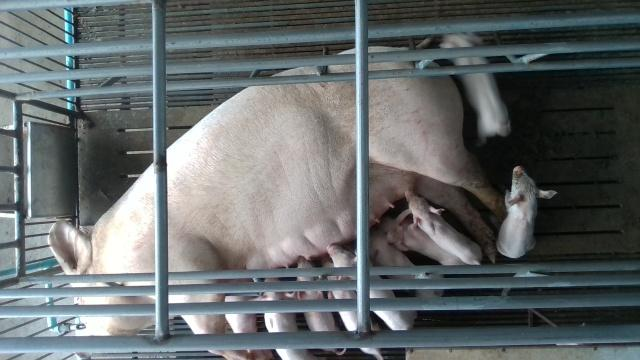piglet: (439, 33, 512, 148), (326, 242, 418, 331), (405, 186, 484, 267), (323, 258, 384, 360), (497, 164, 558, 259), (292, 253, 346, 356), (250, 277, 316, 360), (368, 228, 445, 297), (376, 215, 465, 265)
sow-sleep-lactate: (48, 46, 506, 360)
